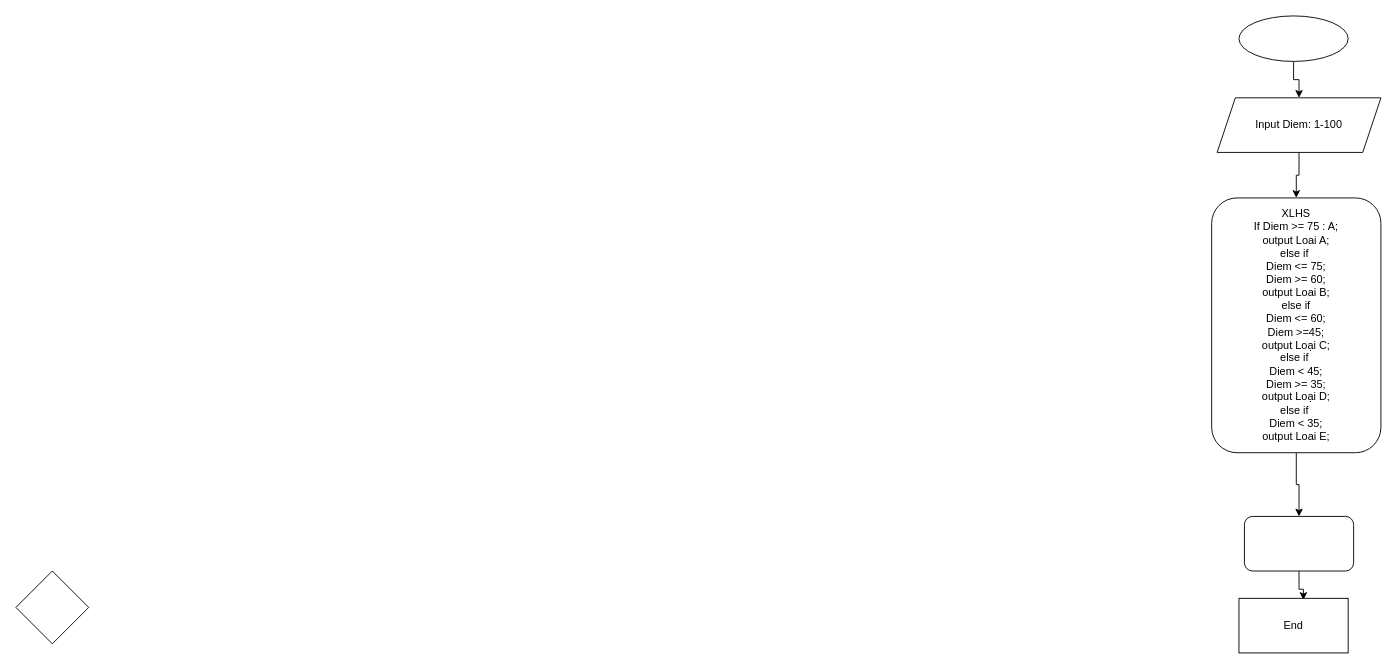
The diagram is 1397 pixels wide and 669 high, and some of its shapes have lost their labels. Each missing label, with the box of its shape:
Begin: (1238, 15, 1348, 61)
Display Loai A Loai B Loai C Loai D: (1244, 516, 1354, 571)
